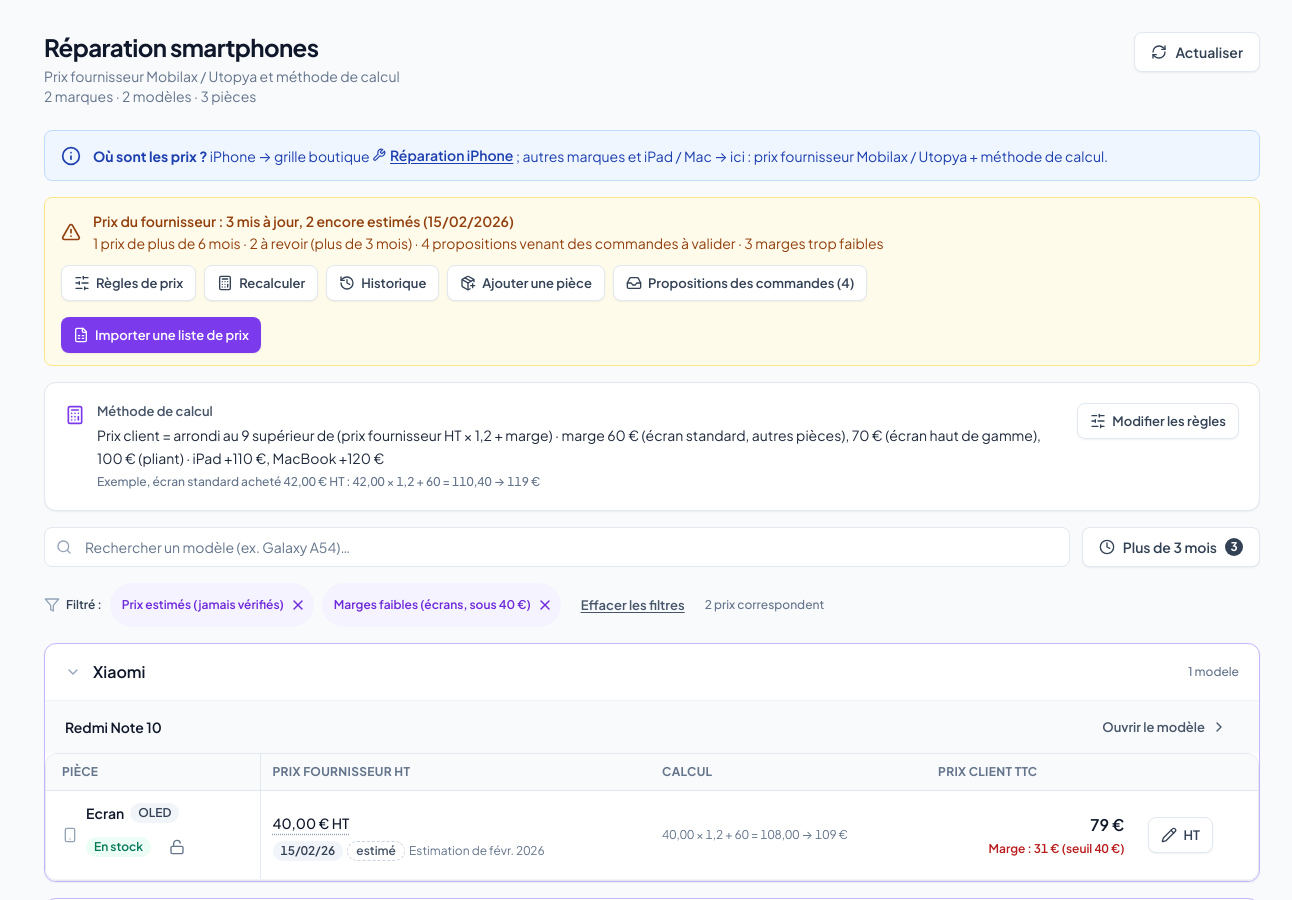
it: TarifsPage : filtres envoyés par le tableau de bord › plusieurs filtres : « Effacer les filtres » les retire tous
Check: the message reads "2 prix correspondent", box [705, 597, 824, 614]
Click the button "Effacer les filtres": {"x": 633, "y": 605} [569, 587, 697, 623]
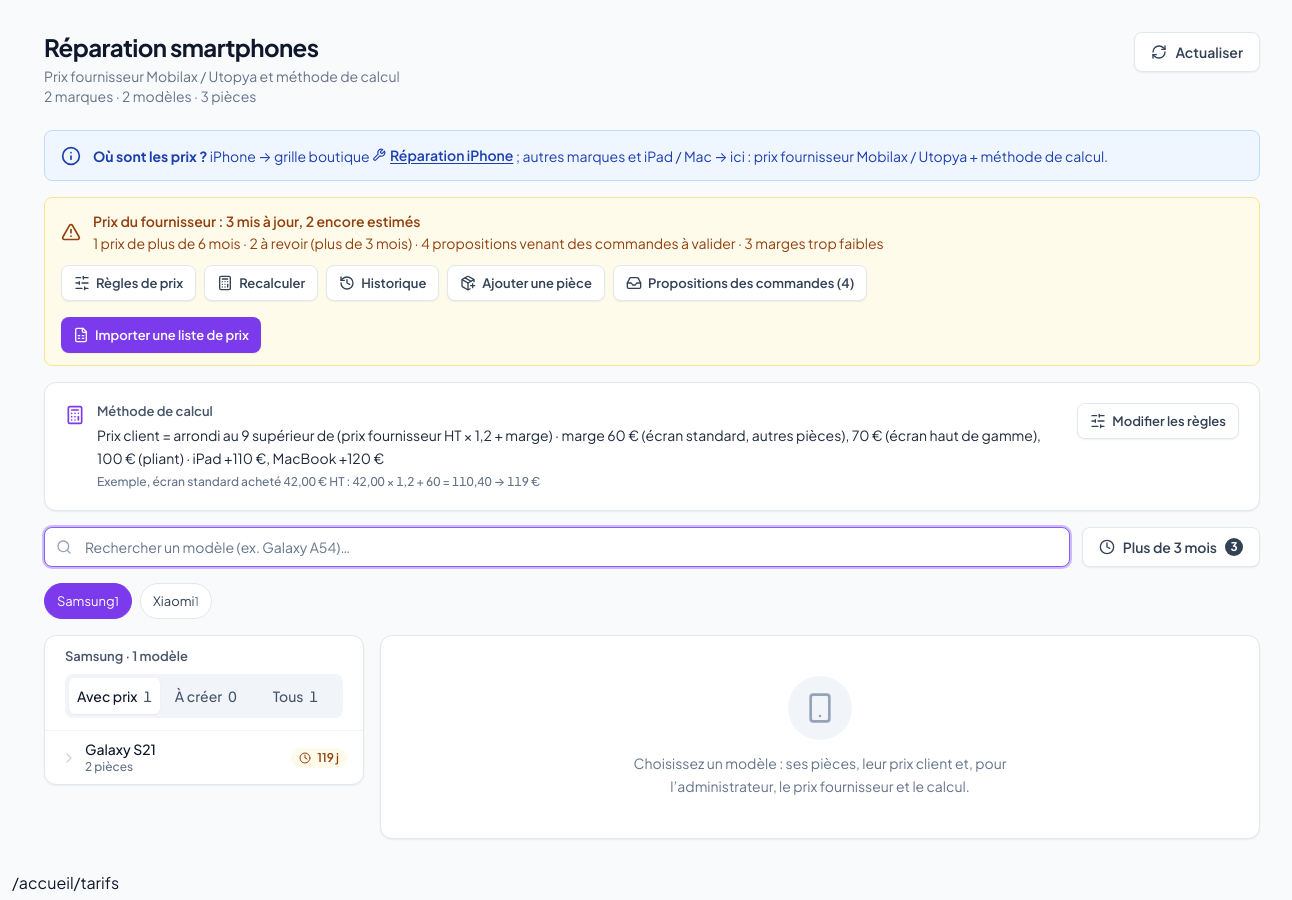
Check: the text with test id "adresse" reads "/accueil/tarifs", box [12, 872, 119, 893]
